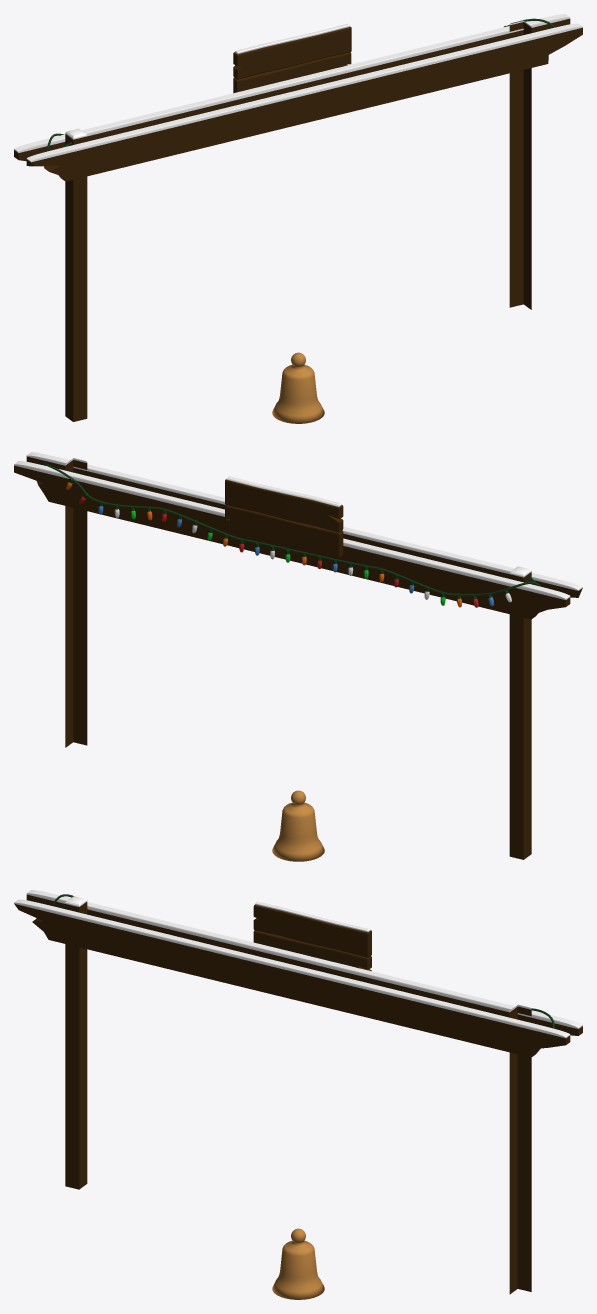
File: holiday2021.glb
3 renders of one model, top to bottom at view 1: azimuth 30°, elevation 25°; view 2: azimuth 150°, elevation 25°; view 3: azimuth 330°, elevation 25°, orthographic.
Parts seen in each view (by area): view 1: arbor, bell; view 2: arbor, bell; view 3: arbor, bell.
Boxes of the visible parts, x1,y1,x2,y2 form: arbor: (14, 14, 582, 421); bell: (272, 352, 324, 423); arbor: (14, 452, 582, 859); bell: (272, 790, 324, 861); arbor: (14, 890, 582, 1294); bell: (272, 1228, 324, 1299).
Bounding box in the file's own units: 23.12 × 14.69 × 1.91.
Materials: 1 (1 with a texture image).
